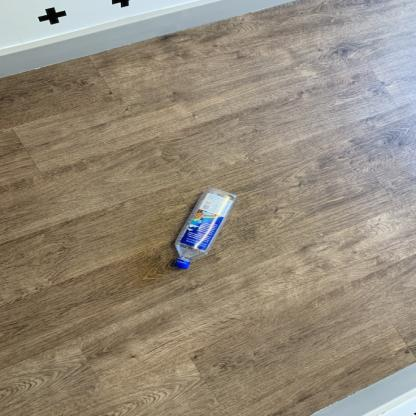trash: (171, 188, 237, 271)
